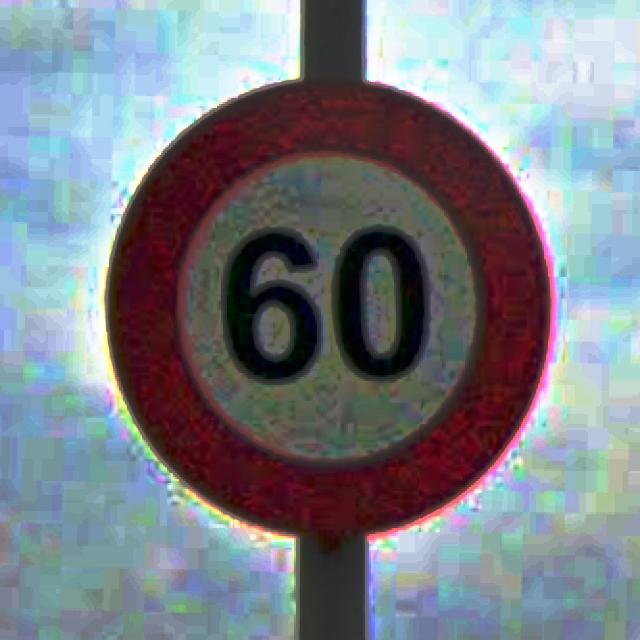max60: (104, 74, 553, 540)
